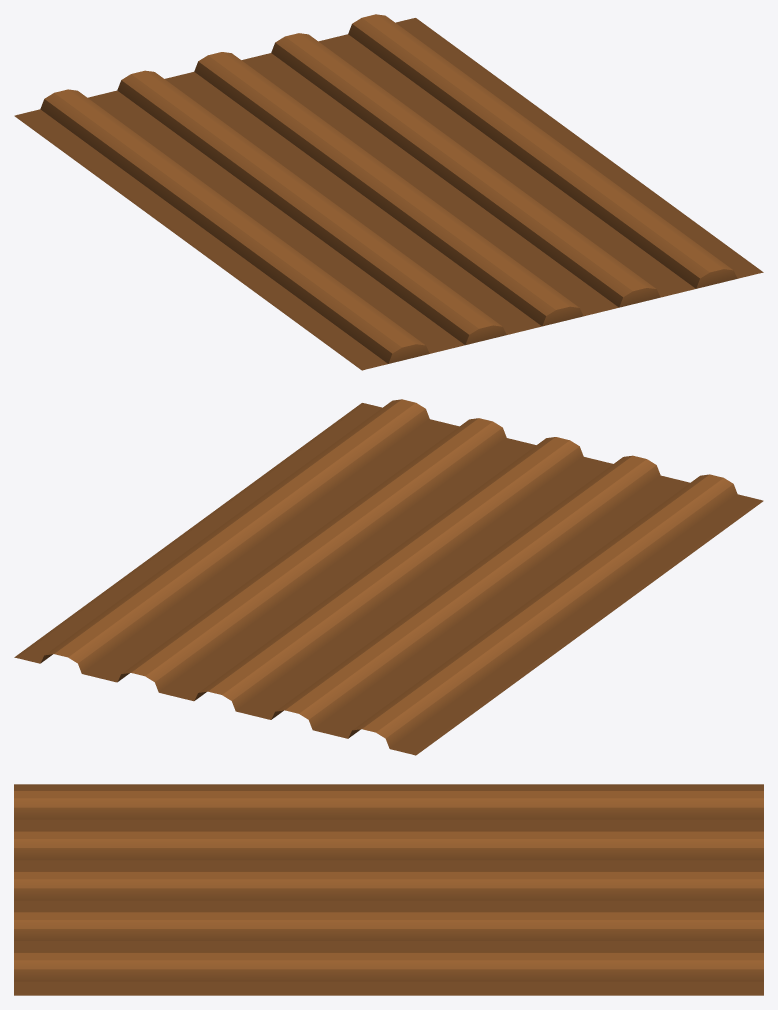
Rendered from Env_Dirt_Rows_Long_Bottom_End_Dry_01.obj.
3 renders of one model, top to bottom at view 1: azimuth 30°, elevation 25°; view 2: azimuth 150°, elevation 25°; view 3: azimuth 270°, elevation 25°, orthographic. The views are drawn at different scales.
Parts seen in each view (by area): view 1: Env_Dirt_Rows_Long_Bottom_End_Dry_01; view 2: Env_Dirt_Rows_Long_Bottom_End_Dry_01; view 3: Env_Dirt_Rows_Long_Bottom_End_Dry_01.
Boxes of the visible parts, bbox=[...] form: Env_Dirt_Rows_Long_Bottom_End_Dry_01: bbox=[14, 14, 763, 370]; Env_Dirt_Rows_Long_Bottom_End_Dry_01: bbox=[14, 399, 763, 755]; Env_Dirt_Rows_Long_Bottom_End_Dry_01: bbox=[14, 784, 763, 995].
Size of the model in its own units: 4 by 0.1262 by 6.
Materials: 1 (1 with a texture image).
